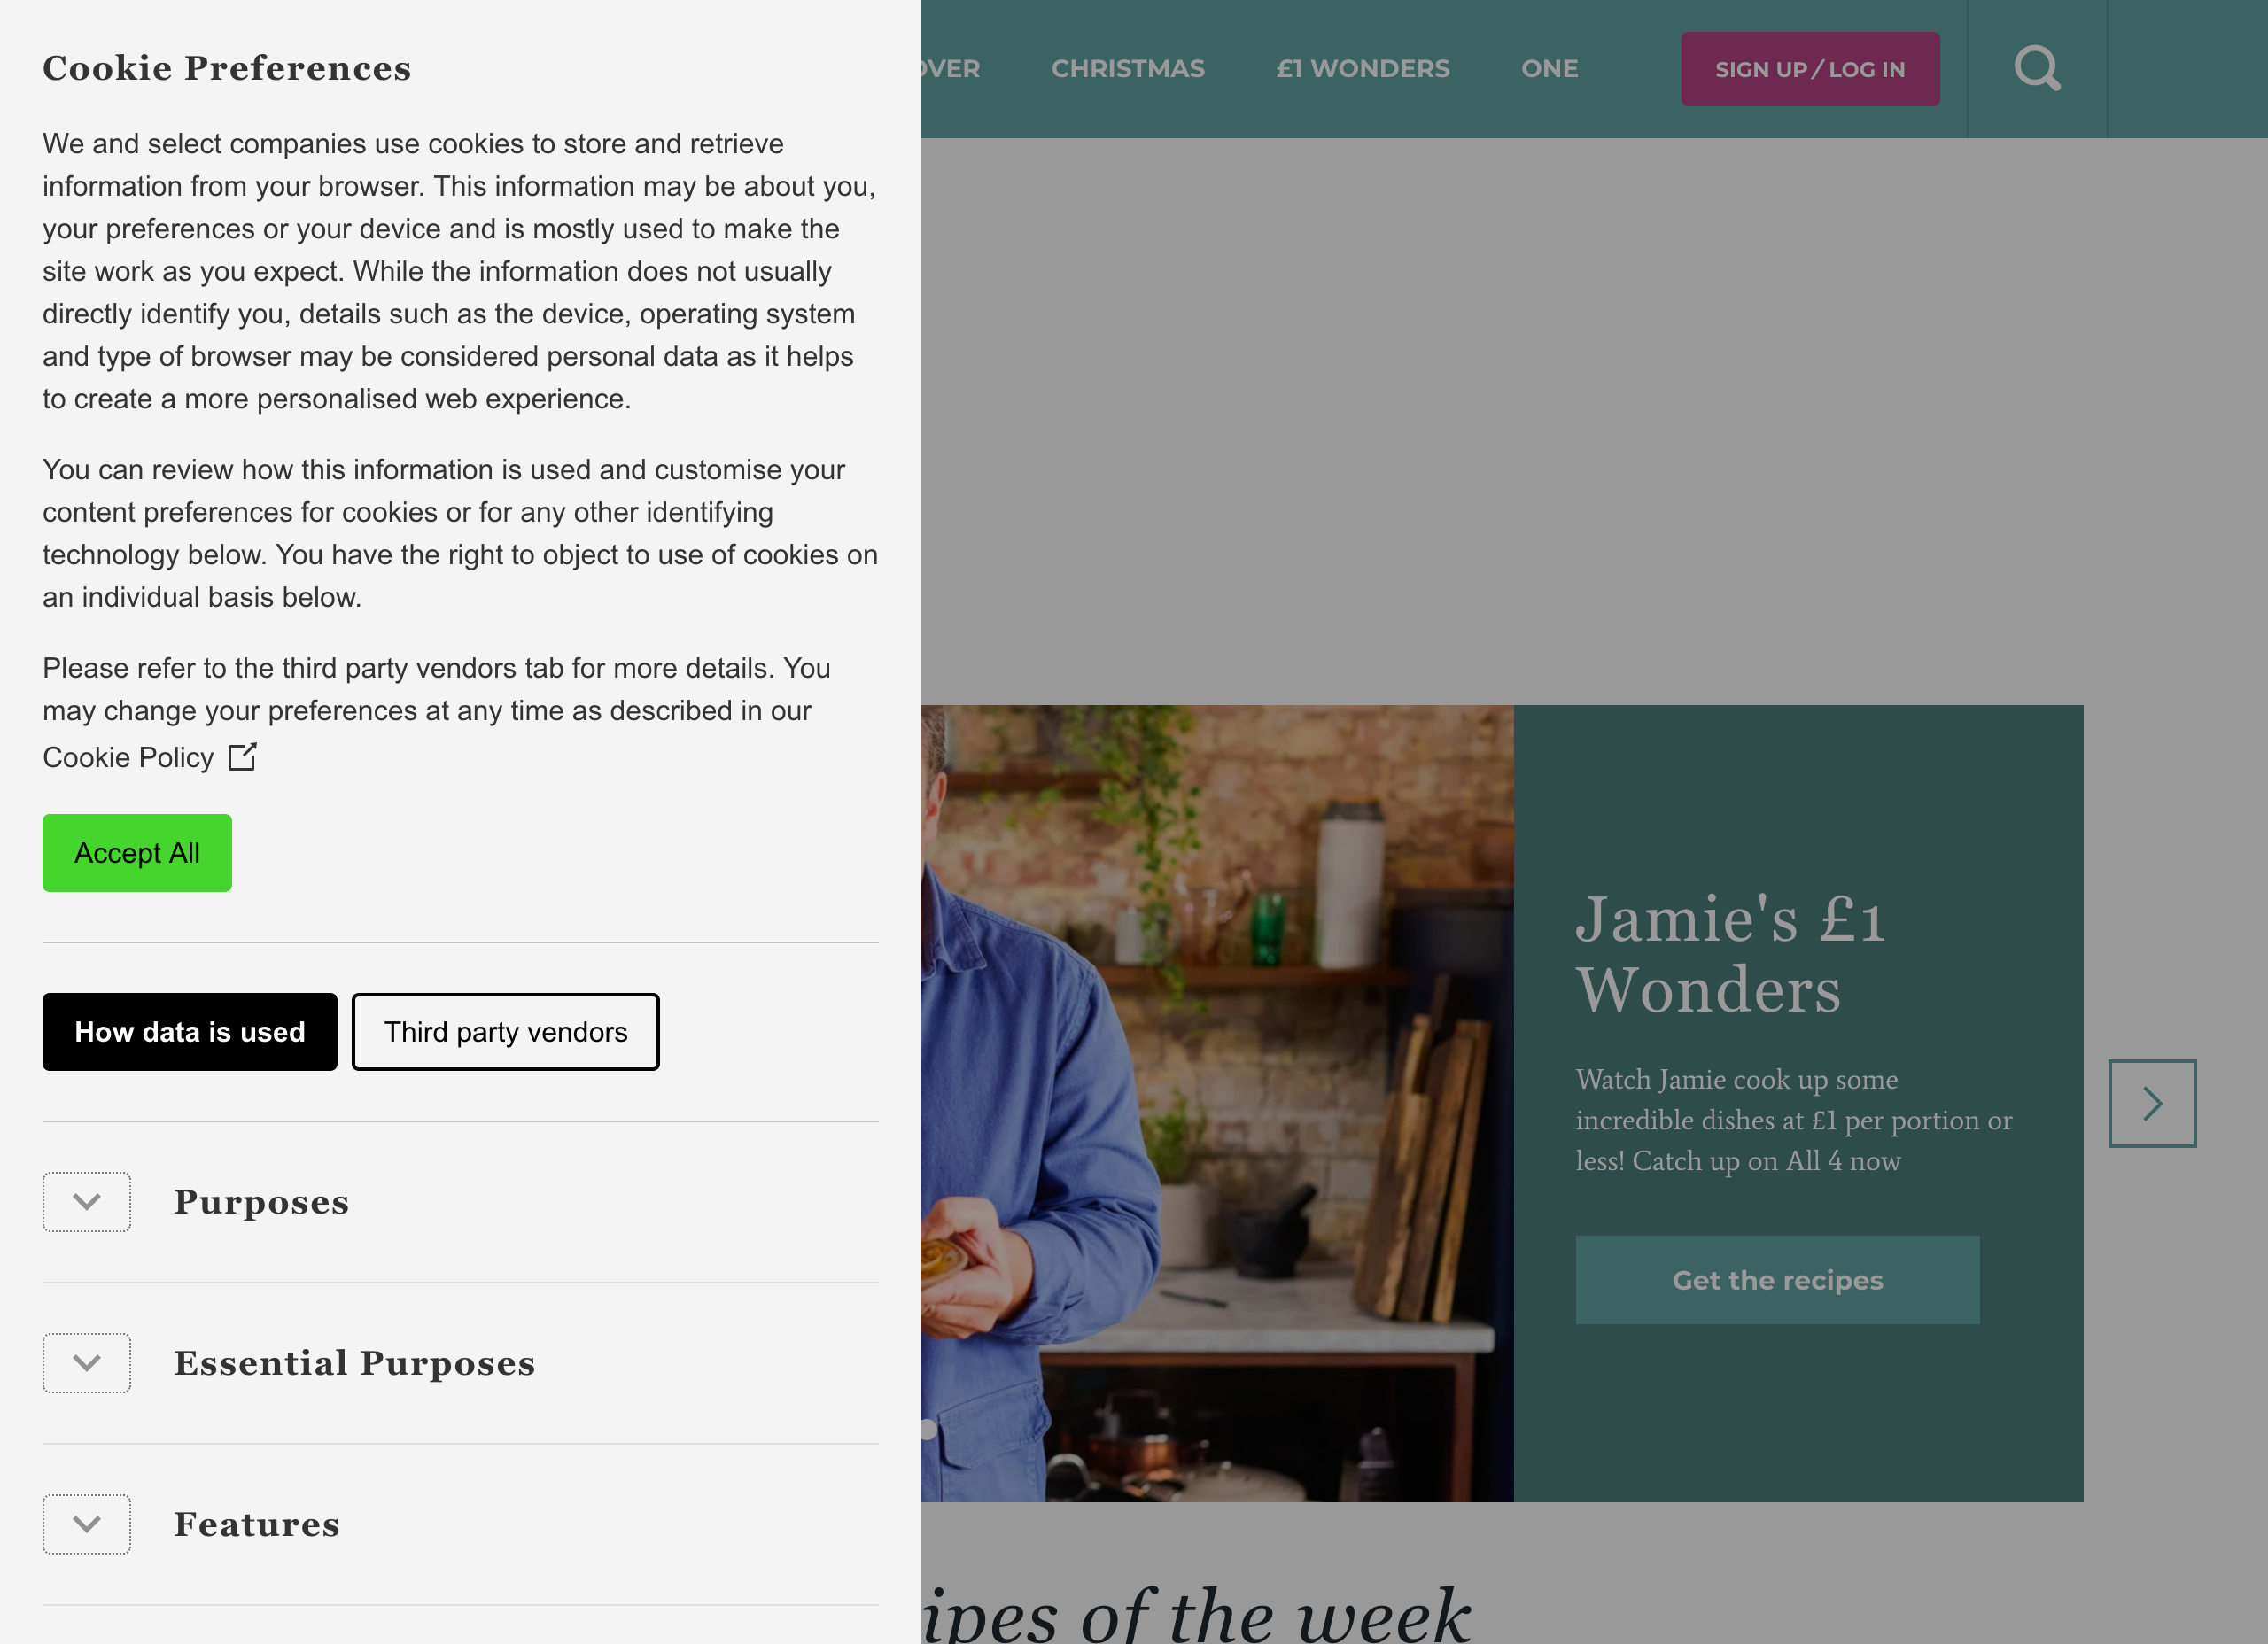Login: (1826, 55, 1921, 88)
